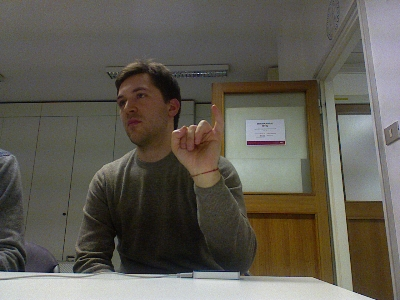小指: (169, 103, 225, 172)
